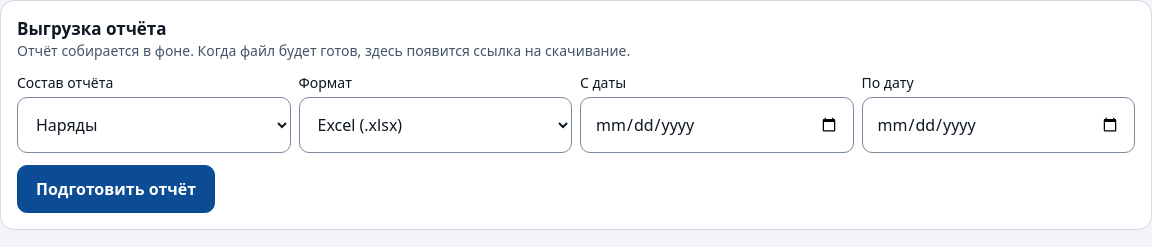
Test: report export workflow › reports a generation failure without presenting a download action
The image size is (1152, 247).
Click the button "Подготовить отчёт". click: coordinates (116, 189)
box: [17,165,215,213]
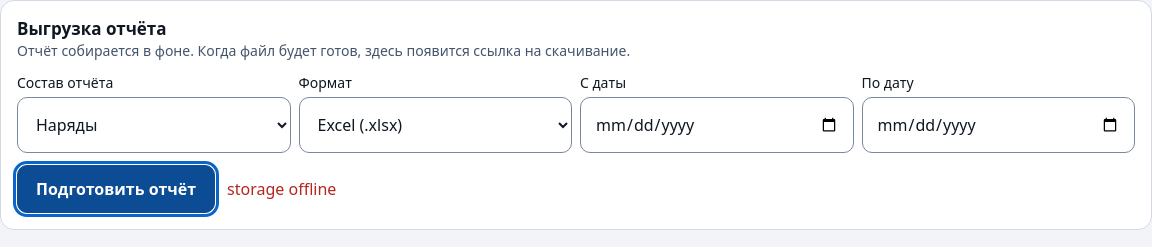
Expected: the message reads "storage offline", [227,178,336,200]
